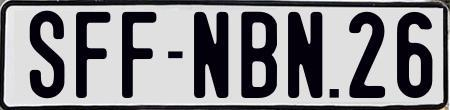2: (346, 9, 384, 97)
6: (397, 9, 434, 97)
B: (239, 9, 277, 96)
F: (76, 9, 114, 97), (121, 10, 155, 97)
N: (288, 9, 325, 101), (194, 9, 233, 95)
S: (30, 8, 66, 96)
